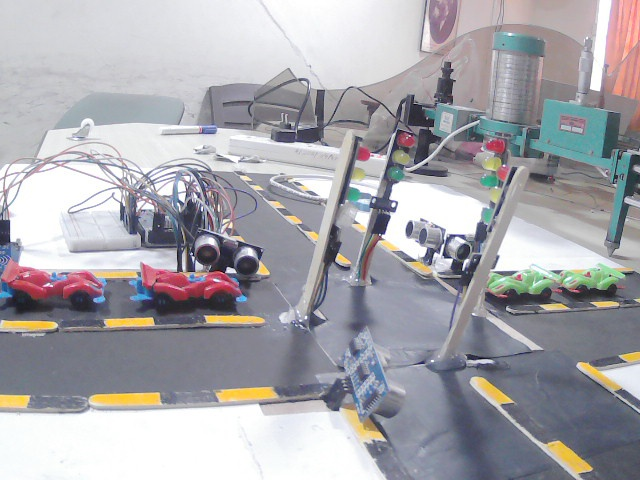car: (131, 256, 250, 309), (0, 264, 109, 311), (493, 270, 567, 305), (557, 269, 640, 300)
traffic_light: (340, 146, 372, 222), (479, 158, 514, 223), (382, 131, 412, 201), (483, 132, 503, 192)
uno_breadboard: (76, 202, 221, 249), (332, 341, 395, 421), (196, 228, 261, 282), (0, 214, 40, 286), (405, 214, 451, 267), (448, 225, 492, 268)
